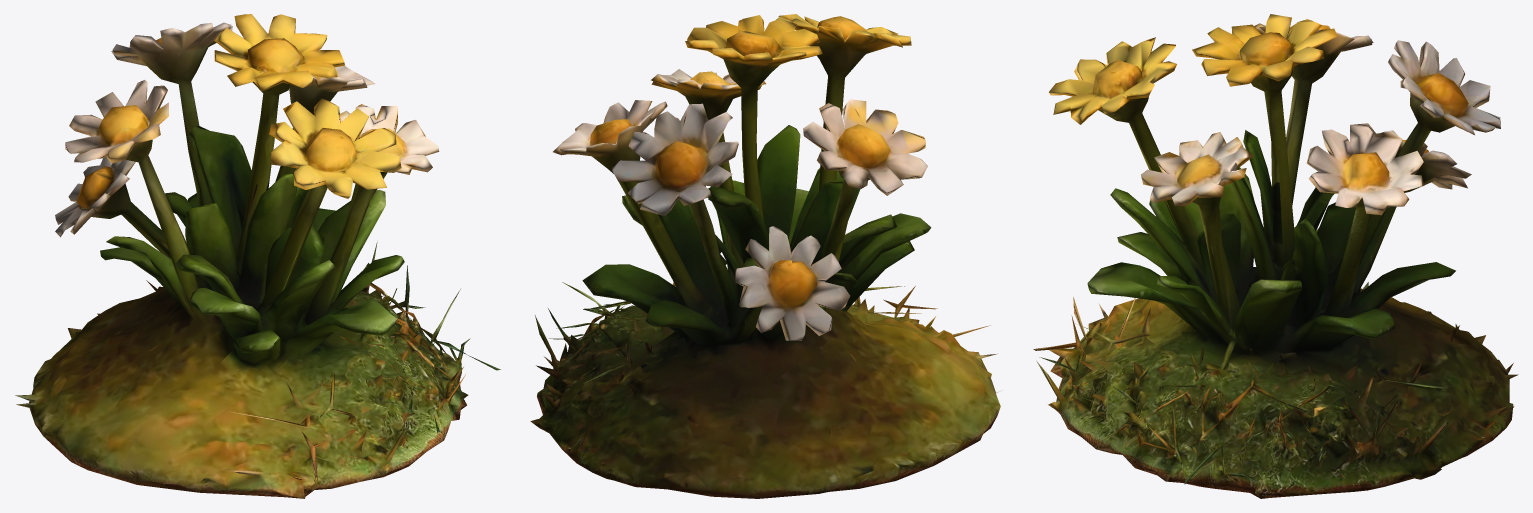
File: flowers-2.glb
The picture shows the model from 3 angles, left to right: view 1: azimuth 30°, elevation 25°; view 2: azimuth 150°, elevation 25°; view 3: azimuth 270°, elevation 25°; orthographic projection. The views are drawn at different scales.
Visible parts, largest first — view 1: tripo_node_f3acf3e5-881d-4a04-9a4f-9ac9a2ecd8bf; view 2: tripo_node_f3acf3e5-881d-4a04-9a4f-9ac9a2ecd8bf; view 3: tripo_node_f3acf3e5-881d-4a04-9a4f-9ac9a2ecd8bf.
Boxes of the visible parts, box(x1,y1,x2,y2) form: tripo_node_f3acf3e5-881d-4a04-9a4f-9ac9a2ecd8bf: box(15, 14, 500, 498); tripo_node_f3acf3e5-881d-4a04-9a4f-9ac9a2ecd8bf: box(530, 14, 1000, 498); tripo_node_f3acf3e5-881d-4a04-9a4f-9ac9a2ecd8bf: box(1033, 14, 1518, 498).
Bounding box in the file's own units: 0.9935 × 0.8459 × 0.974.
1 material, 1 textured.
